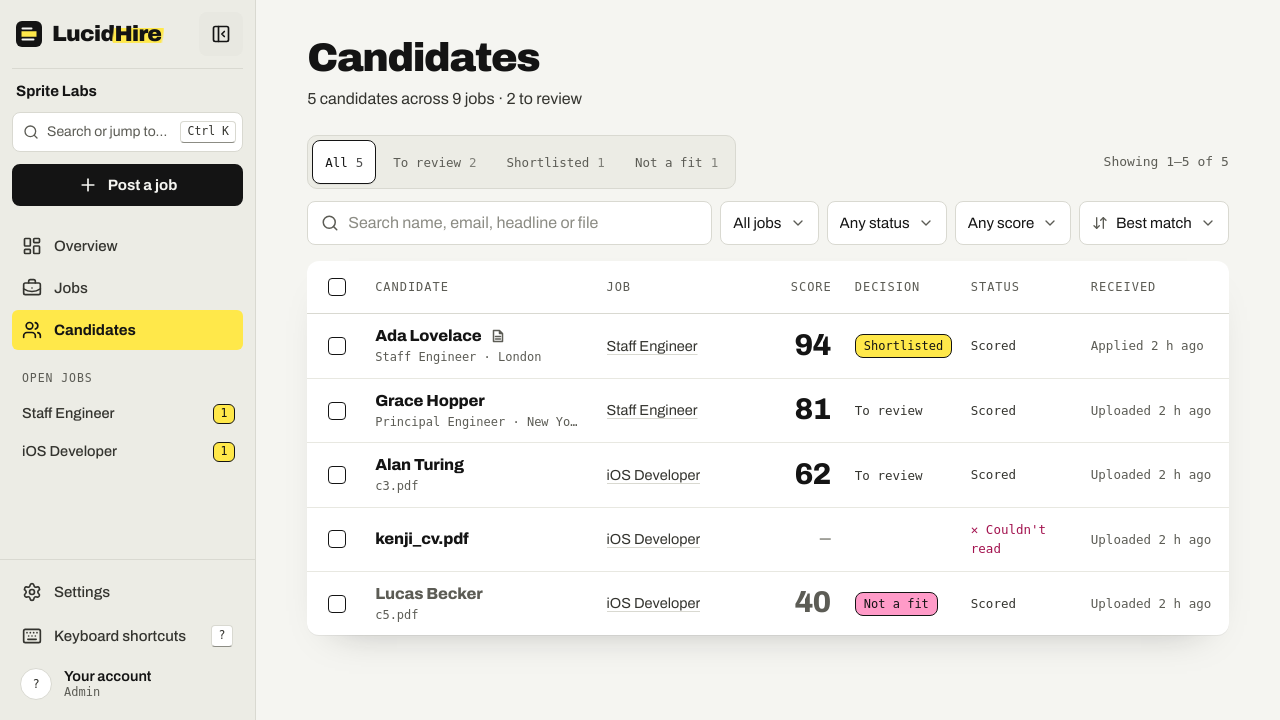
it: the candidates page › checks rows into the bulk bar and shortlists them across jobs
Expected: the heading "Candidates" is shown, top-left (307, 36), bottom-right (539, 79)
Expected: the table named "Candidates across your jobs" is shown, top-left (307, 261), bottom-right (1229, 635)
Step 1. Click the checkbox named "Select Grace Hopper" → (337, 411), box top-left (315, 389), bottom-right (359, 433)
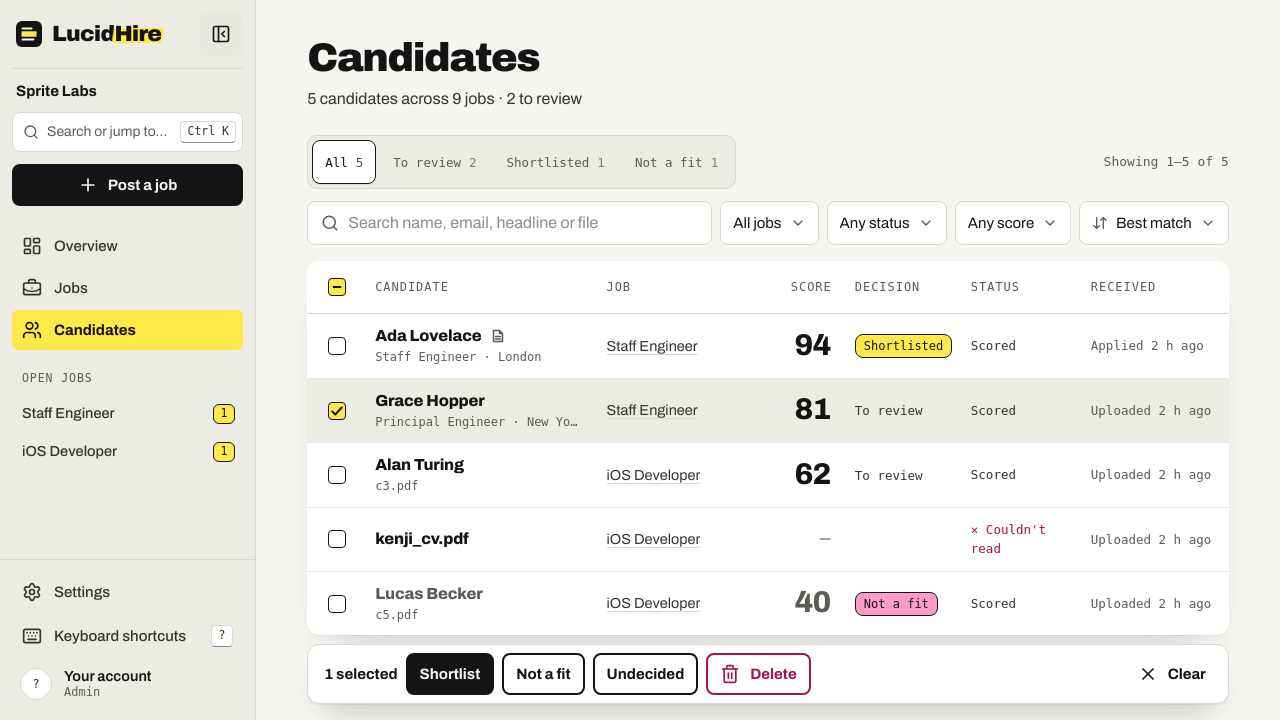
Step 2. Click the checkbox named "Select Alan Turing" → (337, 475), box top-left (315, 453), bottom-right (359, 497)
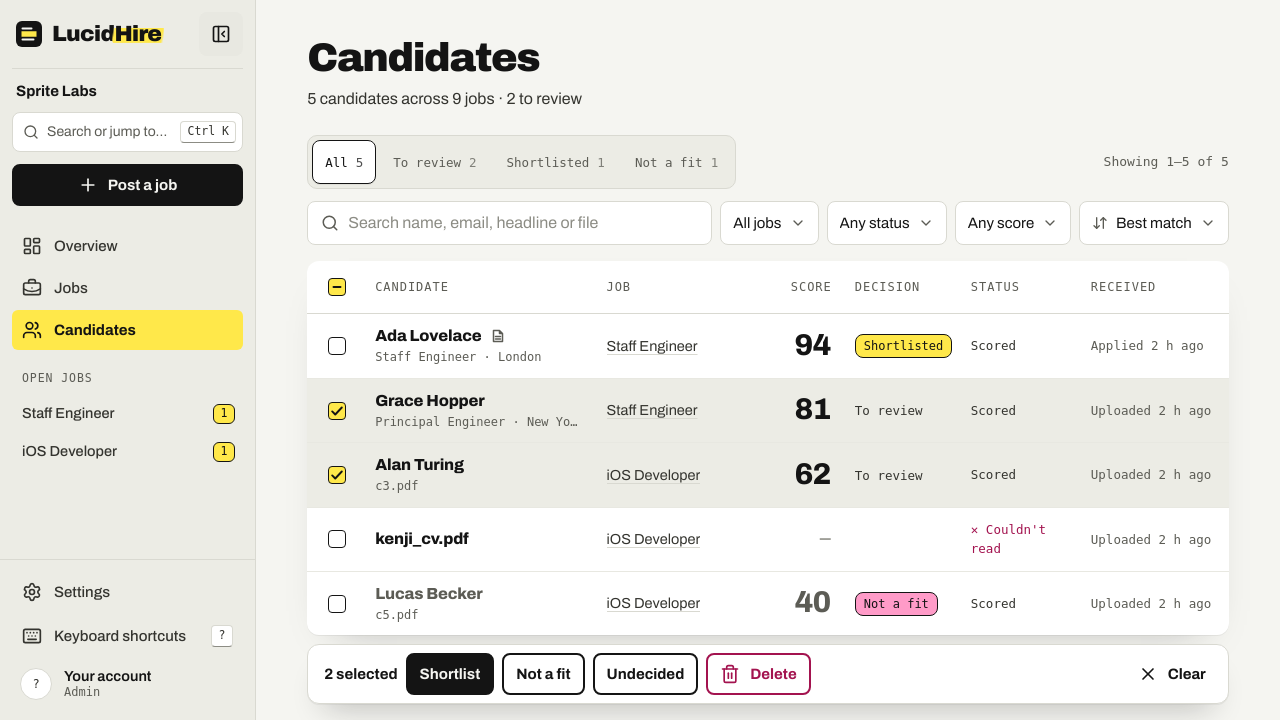
Expected: the button "Delete" is shown, top-left (706, 653), bottom-right (811, 695)
Expected: the message "2 selected" is shown, top-left (324, 662), bottom-right (398, 686)
Step 3. Click the button "Shortlist" → (450, 674), box top-left (406, 653), bottom-right (494, 695)
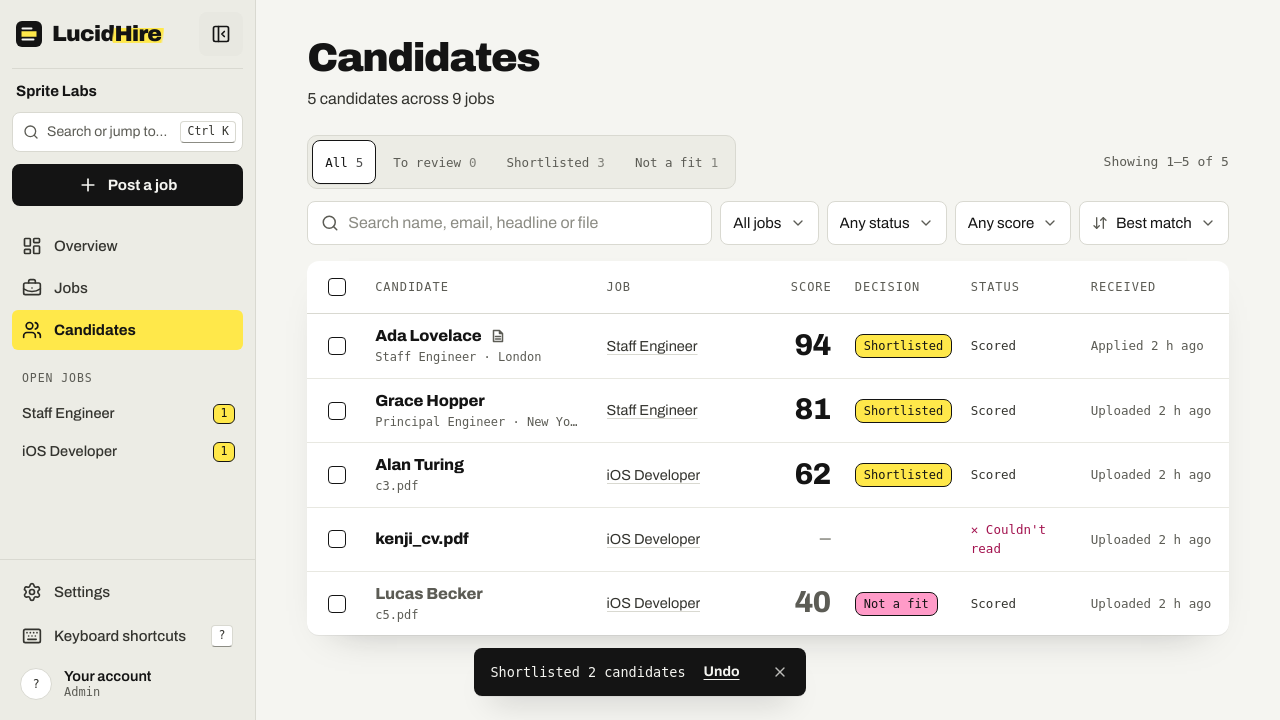
Expected: the radio button labelled "Shortlisted 3" is shown, top-left (507, 154), bottom-right (605, 170)
Expected: the text "Shortlisted 2 candidates" is shown, top-left (490, 664), bottom-right (686, 680)
